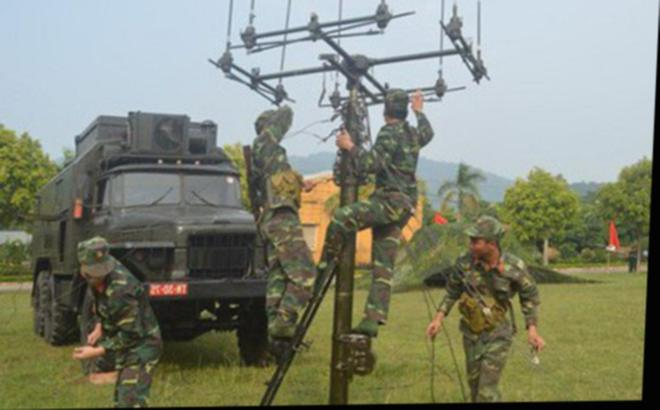License_Plate: (147, 282, 191, 298)
